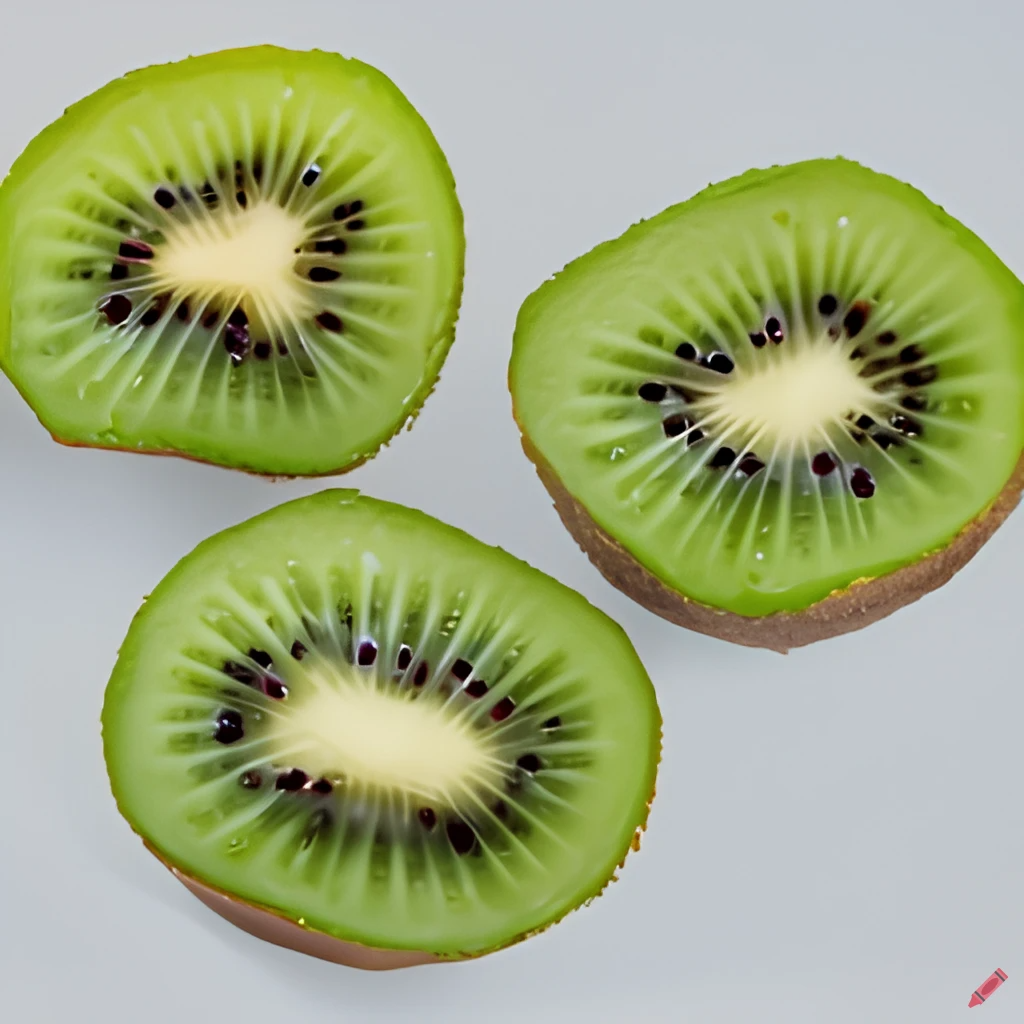Kiwi: (94, 523, 682, 975), (491, 163, 1024, 634), (11, 22, 464, 486)
